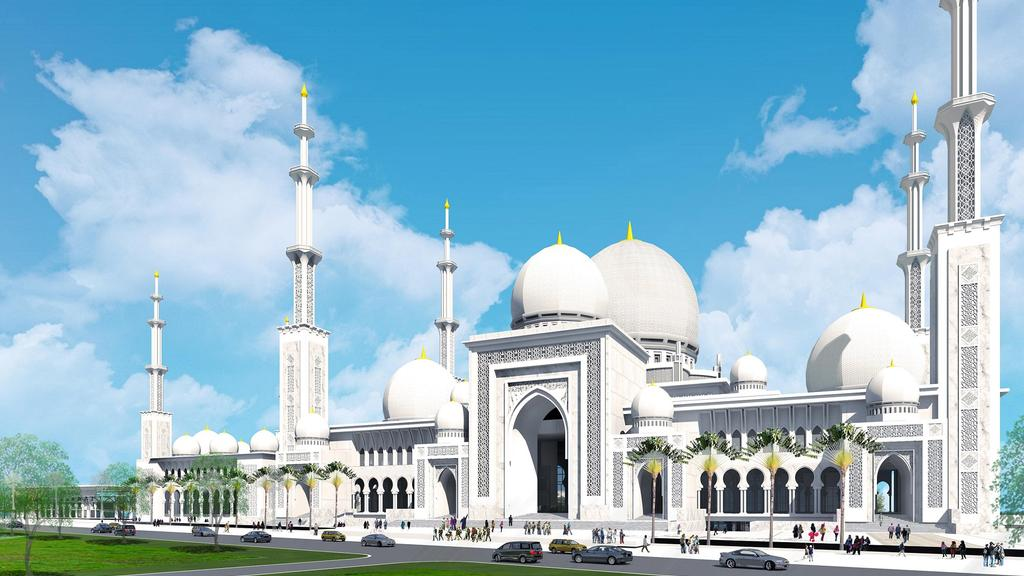Mosque: (118, 27, 1014, 542)
